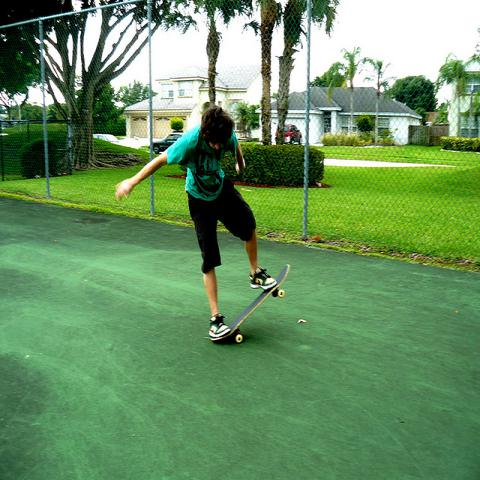car: (155, 132, 182, 154), (275, 125, 303, 144)
